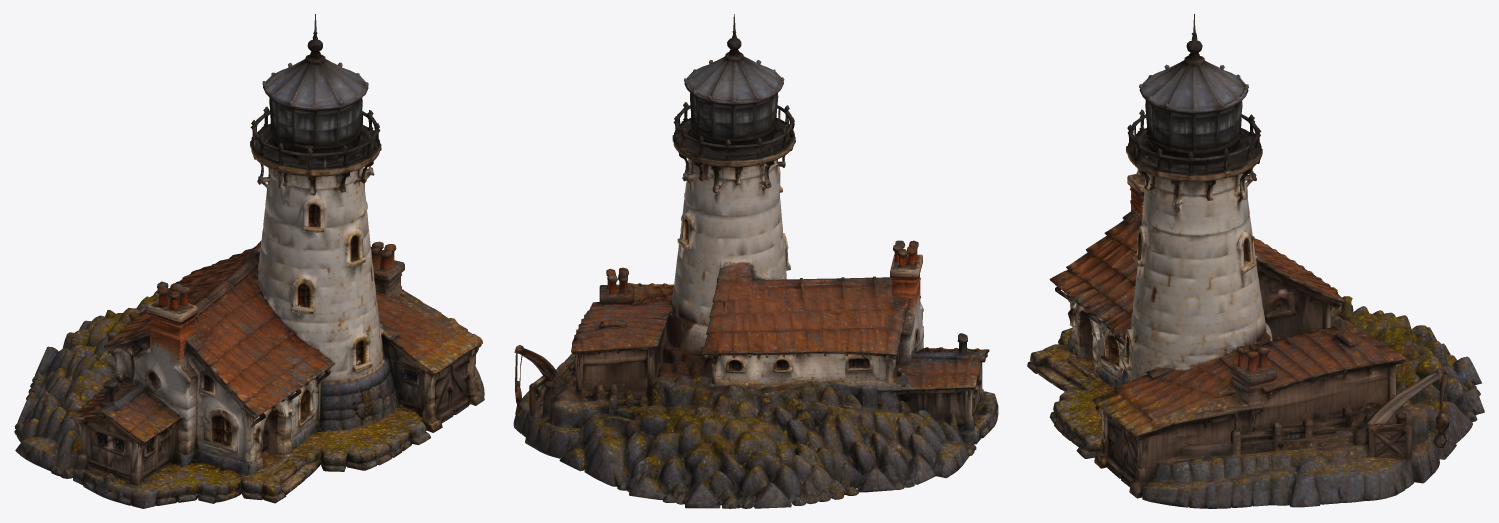
File: lighthouse_exterior_v3_4k_texture.glb
The picture shows the model from 3 angles, left to right: view 1: azimuth 30°, elevation 25°; view 2: azimuth 150°, elevation 25°; view 3: azimuth 270°, elevation 25°; orthographic projection. The views are drawn at different scales.
Visible parts, largest first — view 1: material; view 2: material; view 3: material.
Part boxes in pixels (<box>): material: <box>14,14,484,508</box>; material: <box>513,14,998,508</box>; material: <box>1027,14,1484,508</box>.
Bounding box in the file's own units: 0.8762 × 0.7871 × 0.7892.
Materials: 1 (1 with a texture image).
